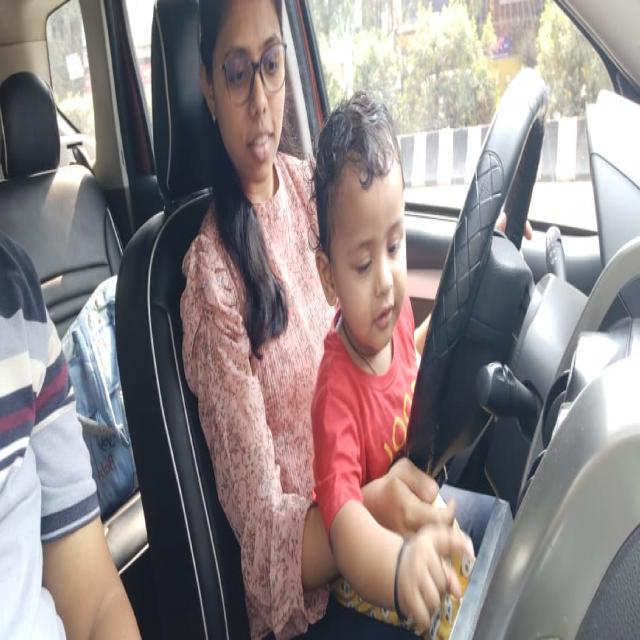child: (310, 85, 410, 353)
person: (194, 2, 303, 191)
